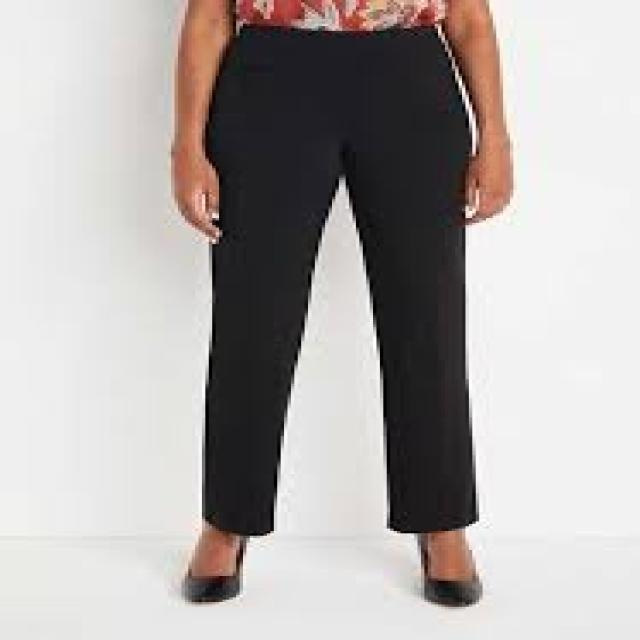pants: (185, 21, 501, 538)
